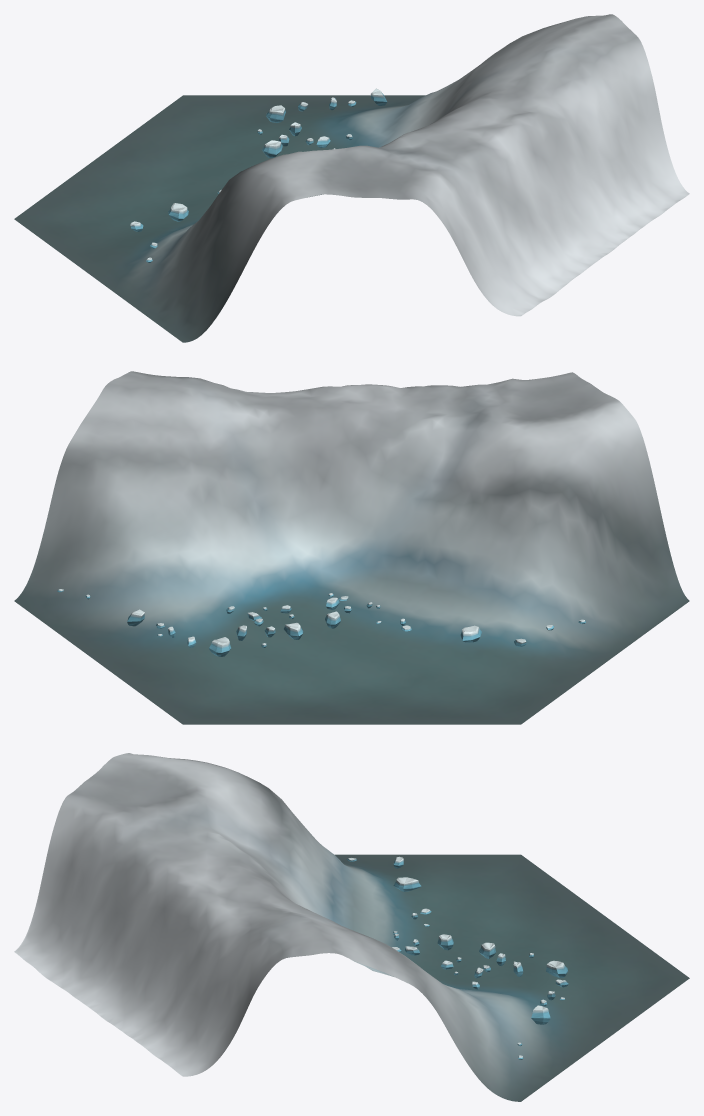
Rendered from costa_+03_-11.glb.
3 views of the same model, one above another, from view 1: azimuth 30°, elevation 25°; view 2: azimuth 150°, elevation 25°; view 3: azimuth 270°, elevation 25° (orthographic).
Visible parts, largest first — view 1: terrain, Formações costeiras; view 2: terrain, Formações costeiras; view 3: terrain, Formações costeiras.
Boxes of the visible parts, x1,y1,x2,y2 form: terrain: [14, 14, 689, 342]; Formações costeiras: [130, 88, 386, 262]; terrain: [14, 371, 689, 724]; Formações costeiras: [57, 589, 585, 656]; terrain: [14, 753, 689, 1101]; Formações costeiras: [347, 856, 568, 1059].
Size of the model in its own units: 4330 by 1256 by 5000.
Materials: 1 (1 with a texture image).
